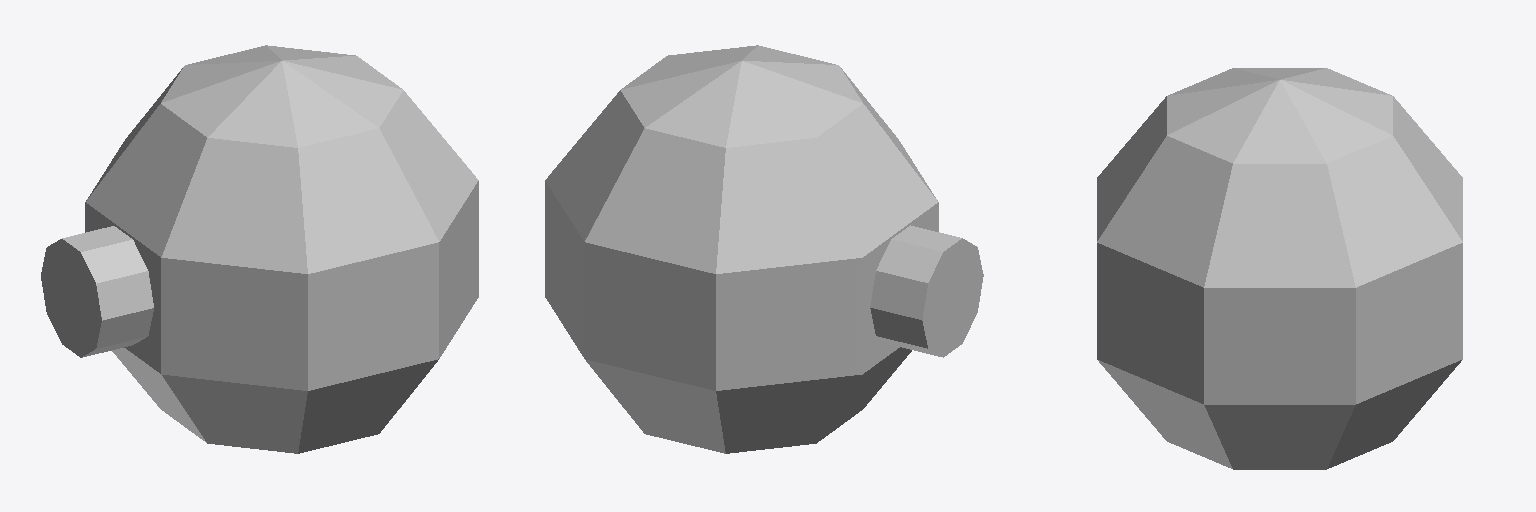
The model's file is ShooterEye.obj.
3 views of the same model, side by side, from view 1: azimuth 30°, elevation 25°; view 2: azimuth 150°, elevation 25°; view 3: azimuth 270°, elevation 25° (orthographic).
Parts seen in each view (by area): view 1: Eye_Sphere; view 2: Eye_Sphere; view 3: Eye_Sphere.
Boxes of the visible parts, <box> form: Eye_Sphere: <box>41,45,478,453</box>; Eye_Sphere: <box>545,45,983,453</box>; Eye_Sphere: <box>1097,68,1462,469</box>.
Size of the model in its own units: 0.6958 by 0.68 by 0.5975.